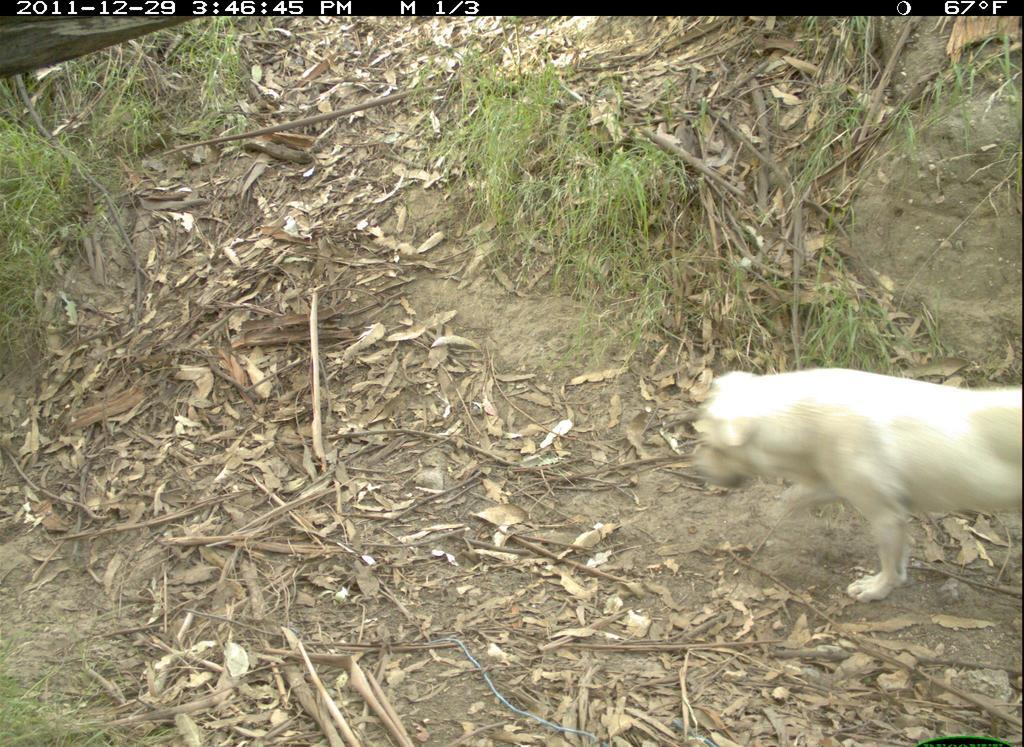dog: (688, 358, 1019, 612)
